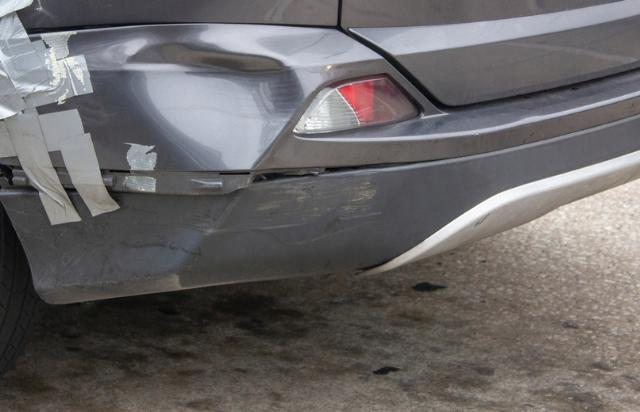Bumper: (94, 39, 402, 277)
